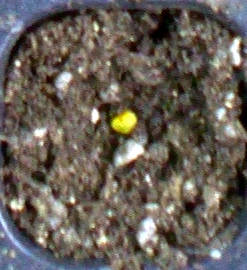chilli seed: (110, 111, 137, 133)
